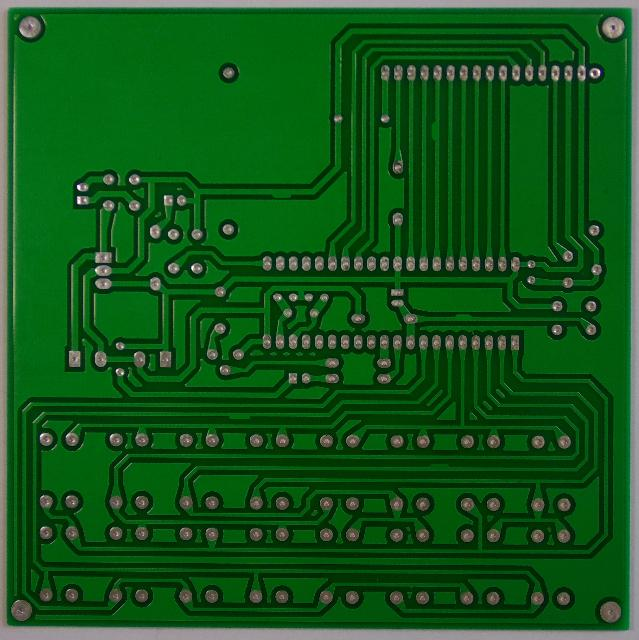spur: (224, 408, 254, 422), (267, 186, 295, 200), (427, 118, 442, 144), (448, 311, 478, 323), (426, 461, 453, 472)
